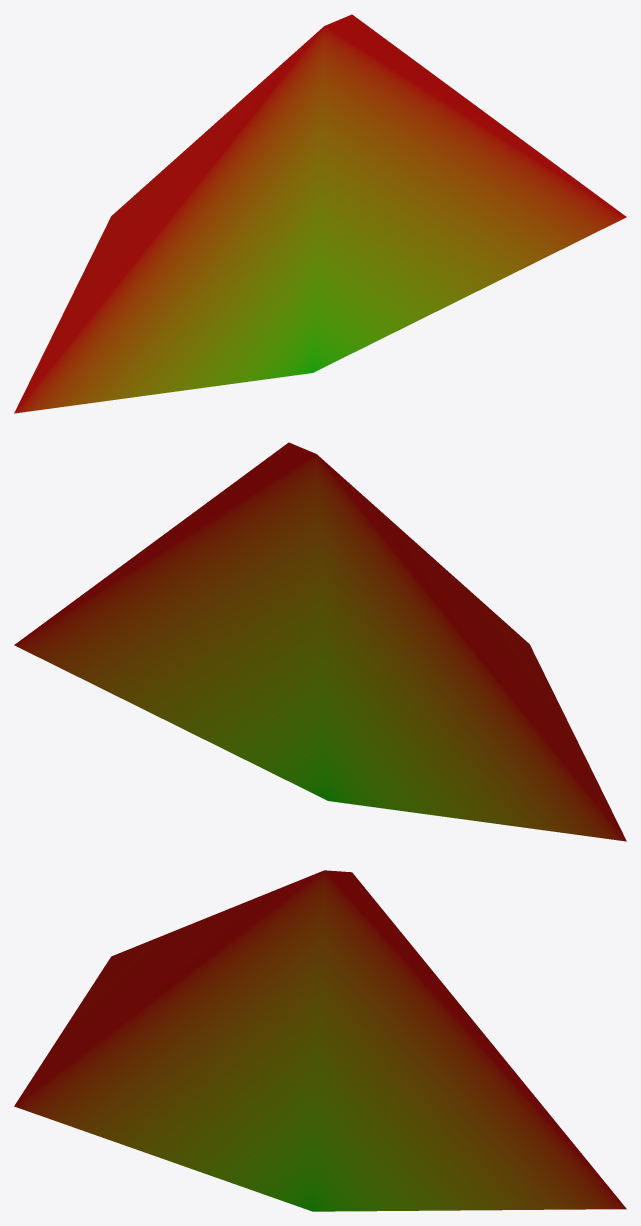
The model's file is Var27_LOD3.fbx.
3 renders of one model, top to bottom at view 1: azimuth 30°, elevation 25°; view 2: azimuth 150°, elevation 25°; view 3: azimuth 330°, elevation 25°, orthographic.
Parts seen in each view (by area): view 1: _e63a_Var27_LOD3; view 2: _e63a_Var27_LOD3; view 3: _e63a_Var27_LOD3.
Boxes of the visible parts, x1,y1,x2,y2 form: _e63a_Var27_LOD3: (14, 14, 626, 413); _e63a_Var27_LOD3: (14, 442, 626, 841); _e63a_Var27_LOD3: (14, 870, 626, 1211).
Size of the model in its own units: 15.88 by 8.64 by 3.64e-12.
